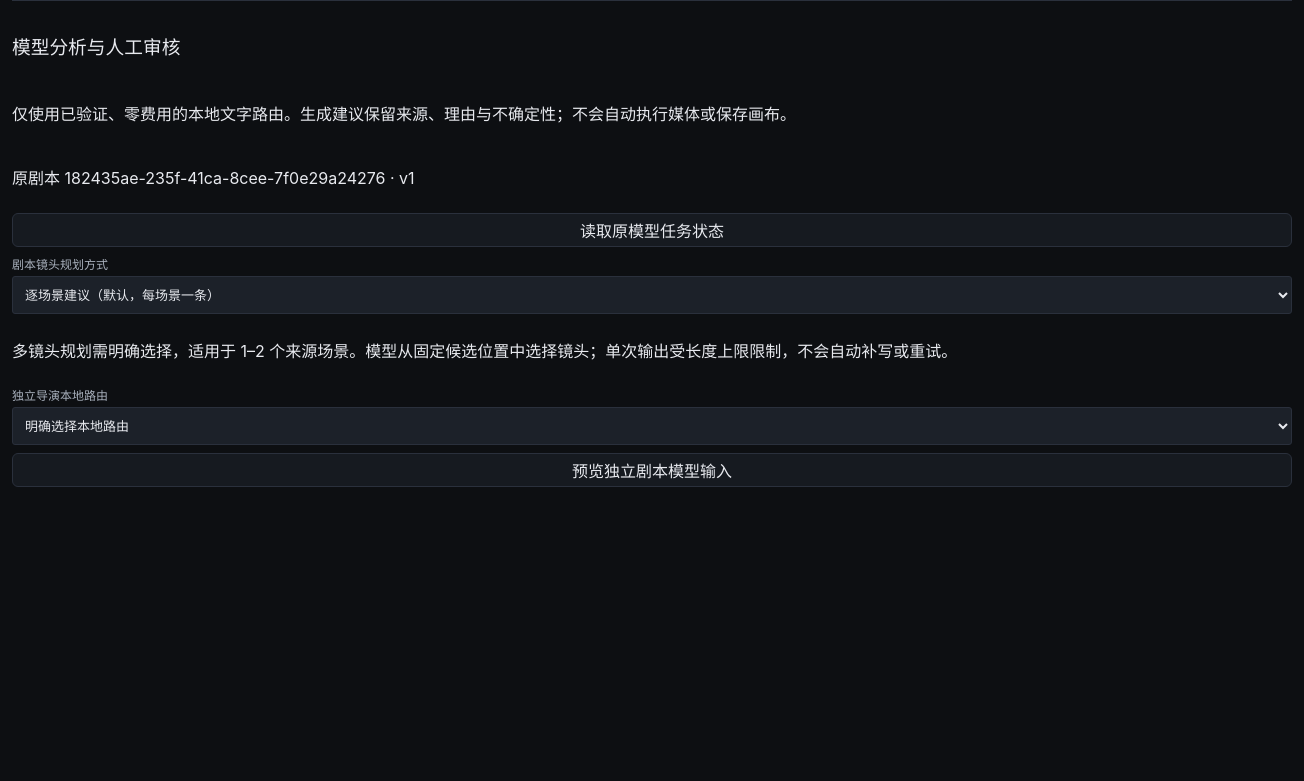
it: reopens V3 pending review read-only without redispatch or new opt-in
The width and height of the screenshot is (1304, 781).
Click the button "读取原模型任务状态".
click(652, 230)  # box [12,213,1292,247]
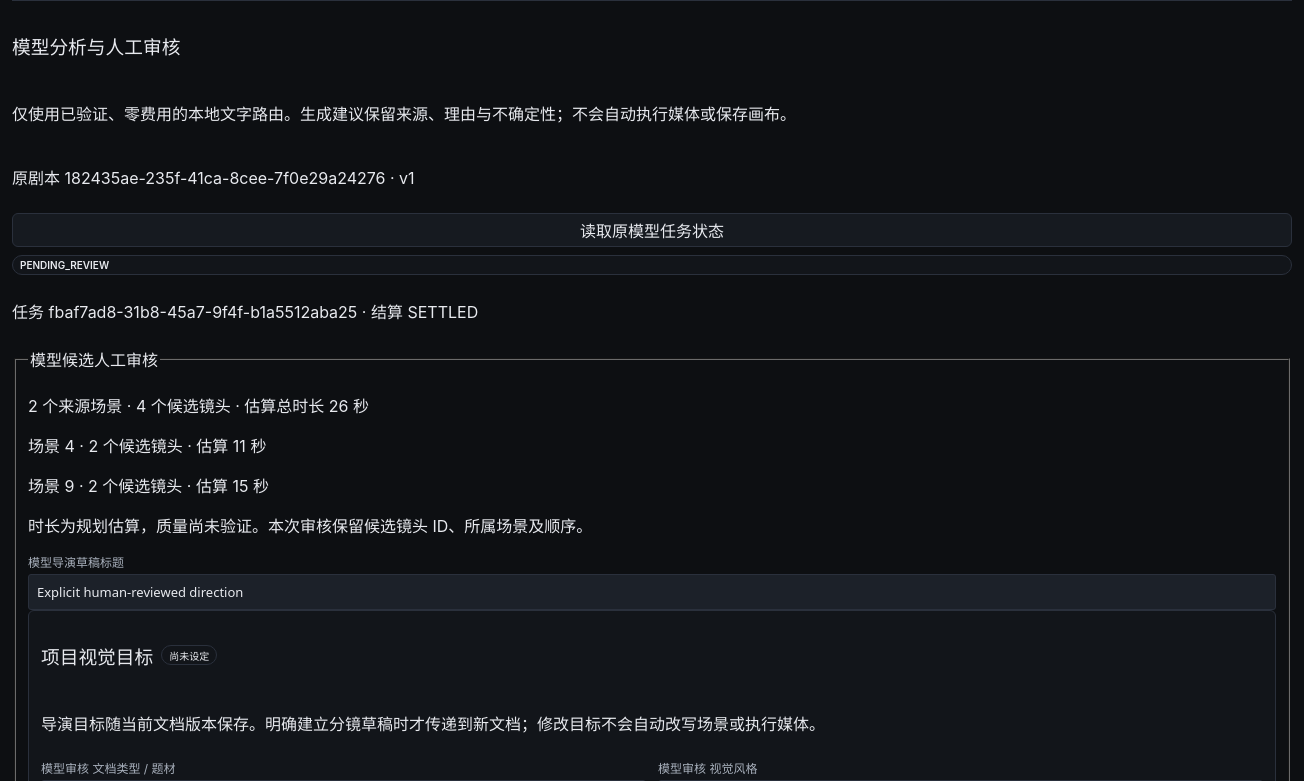
Check: the element named "多镜头候选摘要" is shown, box [28,396,592,536]
Check: the text labelled "剧本镜头规划方式" is gone
